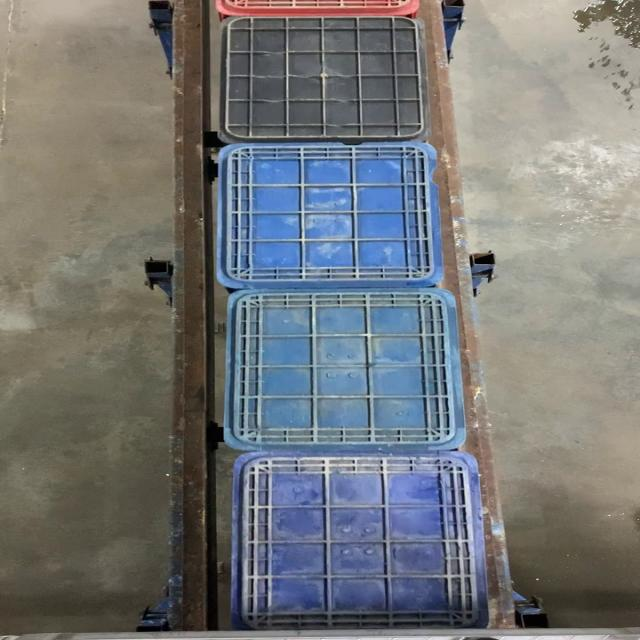Box: (231, 452, 488, 634), (224, 288, 471, 452), (210, 142, 452, 288), (215, 15, 432, 141)
